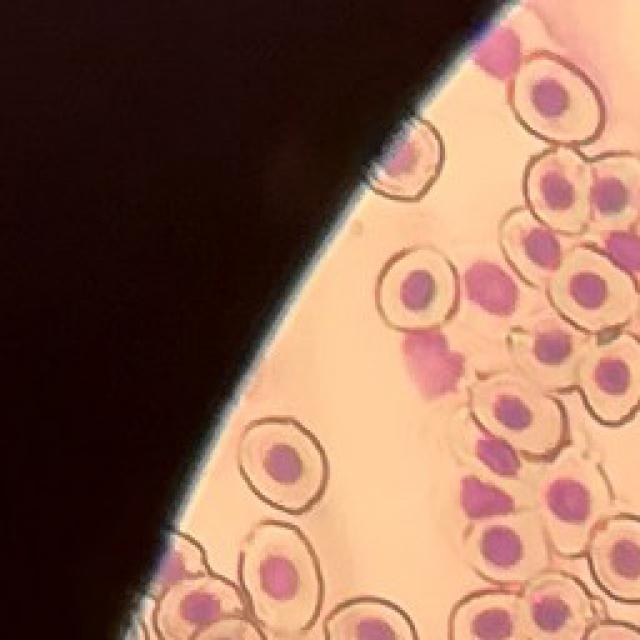RBC: (467, 371, 571, 464), (240, 521, 322, 631), (536, 450, 617, 560), (510, 51, 604, 143), (239, 418, 329, 514), (507, 306, 599, 394), (549, 248, 636, 332), (461, 511, 553, 587), (378, 248, 459, 329), (368, 119, 444, 201), (153, 576, 249, 640), (525, 148, 590, 234), (518, 569, 596, 640), (579, 335, 640, 424), (587, 513, 640, 606), (501, 209, 560, 286), (589, 148, 640, 235), (447, 588, 530, 640), (146, 532, 208, 600), (324, 598, 418, 640), (192, 618, 264, 639)
WBC: (402, 329, 464, 398), (465, 261, 518, 315), (472, 26, 521, 79), (461, 476, 514, 518), (476, 435, 520, 475), (606, 232, 640, 272)
